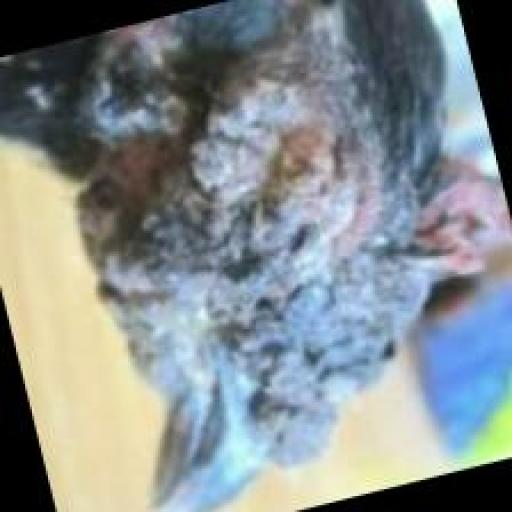disease: (68, 34, 466, 476)
